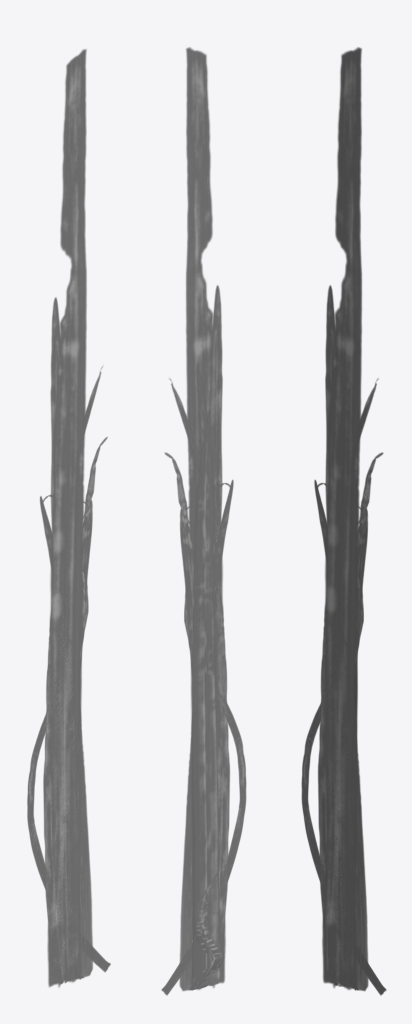
Rendered from Grass Meshset 2.glb.
3 views of the same model, side by side, from view 1: azimuth 30°, elevation 25°; view 2: azimuth 210°, elevation 25°; view 3: azimuth 330°, elevation 25° (orthographic).
Visible parts, largest first — view 1: Plane.049, Plane.047, Plane.046, Plane.051, Plane.052, Plane.050, Plane.048; view 2: Plane.045, Plane.049, Plane.051, Plane.046, Plane.052, Plane.048, Plane.044, Plane.050, Plane.047; view 3: Plane.049, Plane.047, Plane.051, Plane.046, Plane.052, Plane.048, Plane.050, Plane.045.
Part boxes in pixels (left/top/right/bottom): Plane.049: left=47, top=49, right=86, bottom=987; Plane.047: left=54, top=529, right=80, bottom=977; Plane.046: left=43, top=366, right=102, bottom=982; Plane.051: left=50, top=297, right=92, bottom=979; Plane.052: left=27, top=494, right=110, bottom=972; Plane.050: left=39, top=496, right=81, bottom=979; Plane.048: left=60, top=436, right=107, bottom=984; Plane.045: left=190, top=409, right=220, bottom=989; Plane.049: left=186, top=47, right=225, bottom=989; Plane.051: left=179, top=285, right=222, bottom=991; Plane.046: left=169, top=378, right=229, bottom=969; Plane.052: left=161, top=483, right=246, bottom=995; Plane.048: left=164, top=452, right=212, bottom=985; Plane.044: left=190, top=870, right=224, bottom=990; Plane.050: left=191, top=479, right=233, bottom=990; Plane.047: left=192, top=362, right=217, bottom=976; Plane.049: left=322, top=47, right=361, bottom=989; Plane.047: left=330, top=369, right=356, bottom=981; Plane.051: left=325, top=285, right=368, bottom=991; Plane.046: left=318, top=378, right=378, bottom=984; Plane.052: left=301, top=483, right=386, bottom=995; Plane.048: left=334, top=452, right=383, bottom=985; Plane.050: left=314, top=479, right=356, bottom=990; Plane.045: left=326, top=659, right=357, bottom=971.
Size of the model in its own units: 0.231 by 2.01 by 0.0147.
Materials: 1 (1 with a texture image).
